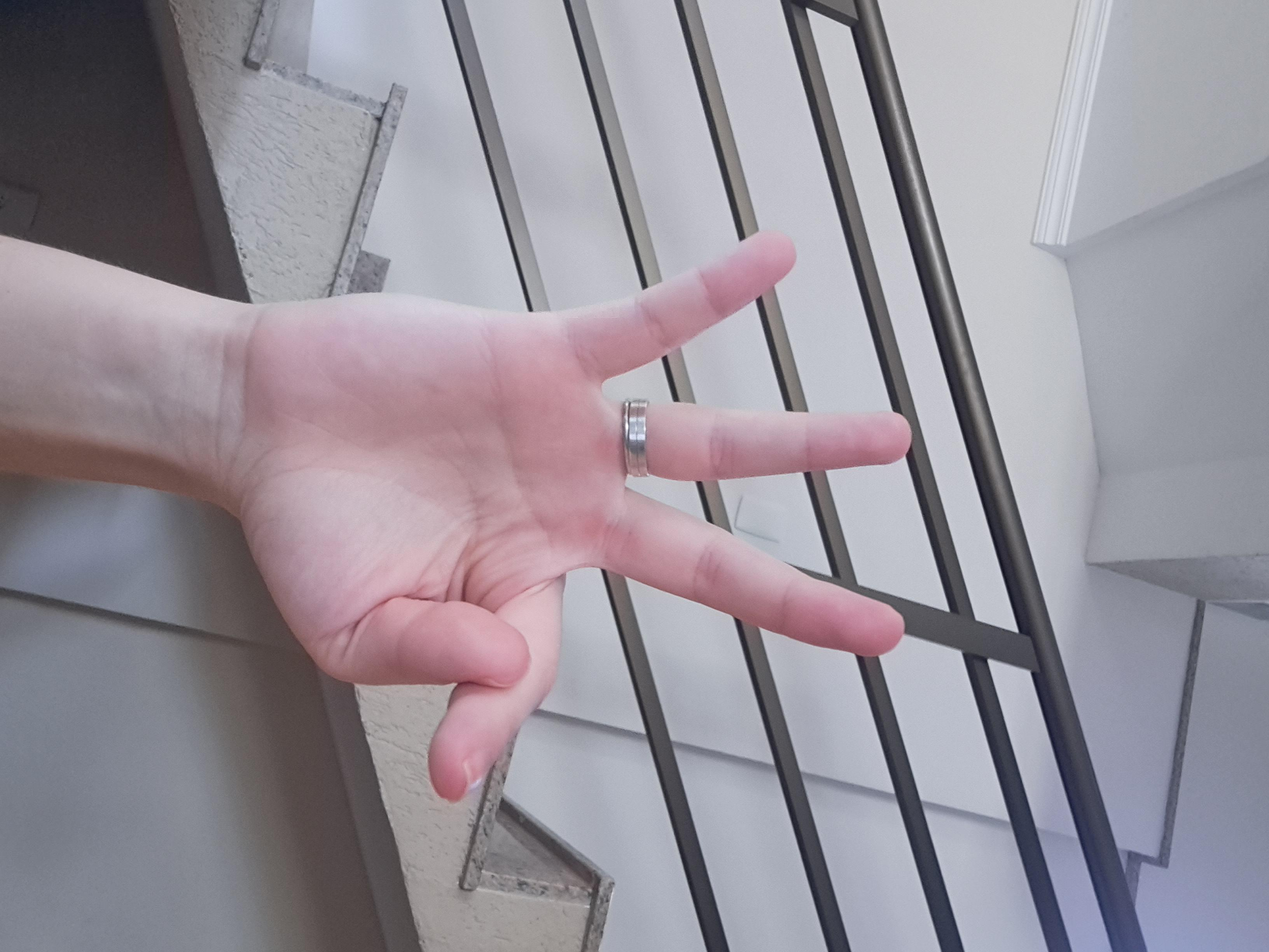T: (264, 239, 1083, 808)
